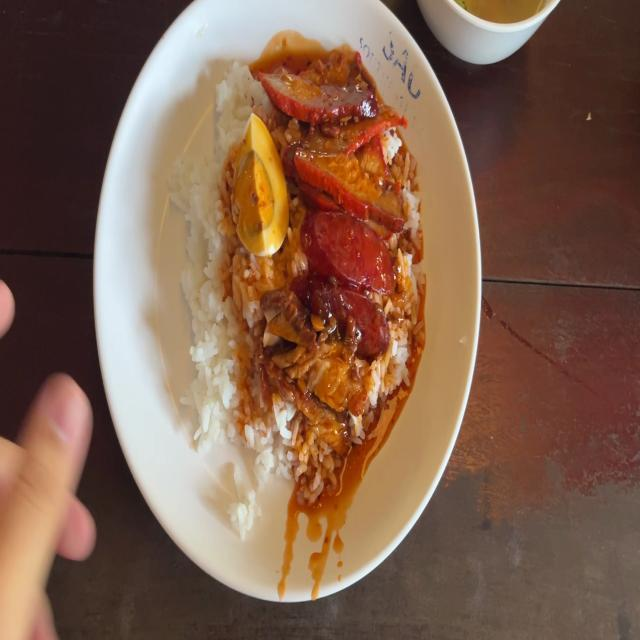01boiled_egg: (236, 126, 284, 246)
01chainese_sausage: (301, 215, 391, 338)
01crispy_pork: (285, 350, 368, 454), (267, 294, 305, 391)
01red_pork: (276, 75, 405, 199)
01red_pork_and_crispy_pork: (178, 69, 414, 482)
01rice: (185, 254, 264, 486), (188, 143, 229, 253), (217, 64, 261, 132)
